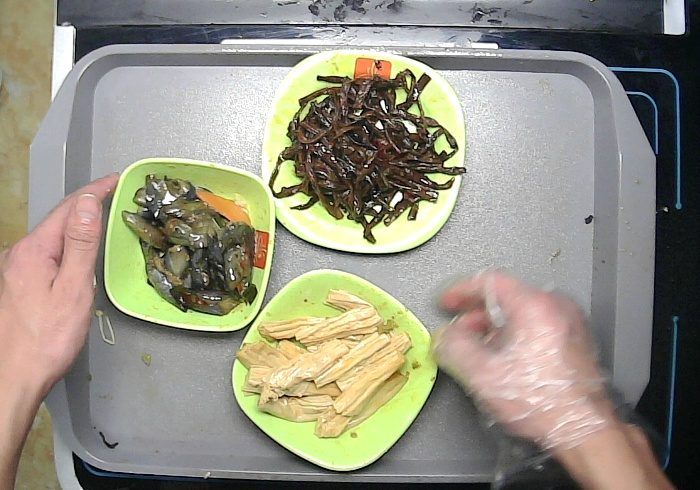SHKJ-Lv_Se_Cai_Die: (228, 267, 448, 477)
SHKJ-Lv_Se_Si_Fang_Cai_Die: (256, 44, 470, 261)
SHKJ-Lv_Se_Xiao_Fang_Die: (99, 152, 278, 335)
